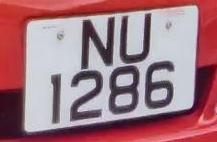1: (41, 66, 68, 132)
2: (66, 65, 108, 127)
6: (142, 58, 179, 116)
8: (103, 63, 143, 118)
N: (76, 13, 121, 73)
U: (117, 11, 156, 68)
